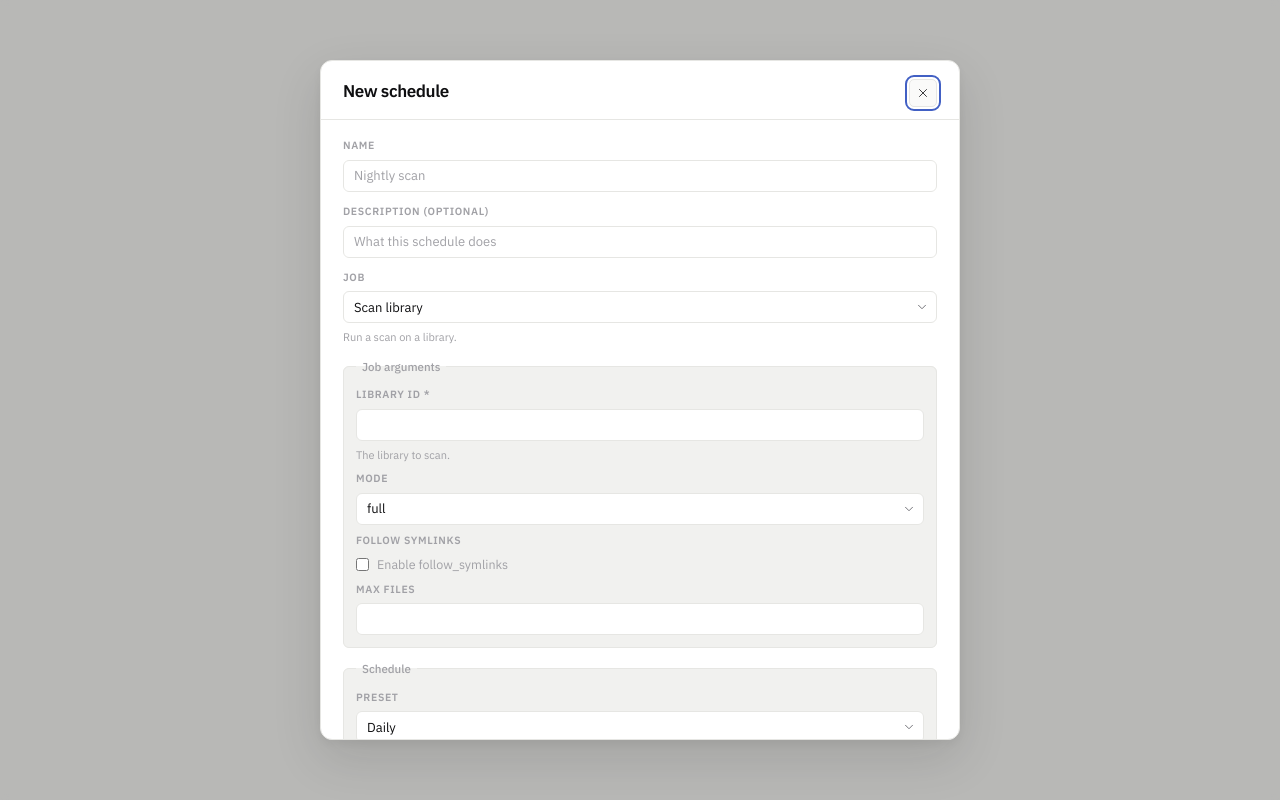
Test: Stage 9 — AutomationScheduleDialog form › read-only JSON peek shows the current form state
Type "lib-xyz" into the field labelled "Library ID * The library to scan." at coordinates (640, 425), box [356,409,924,441]
(page scrolled)
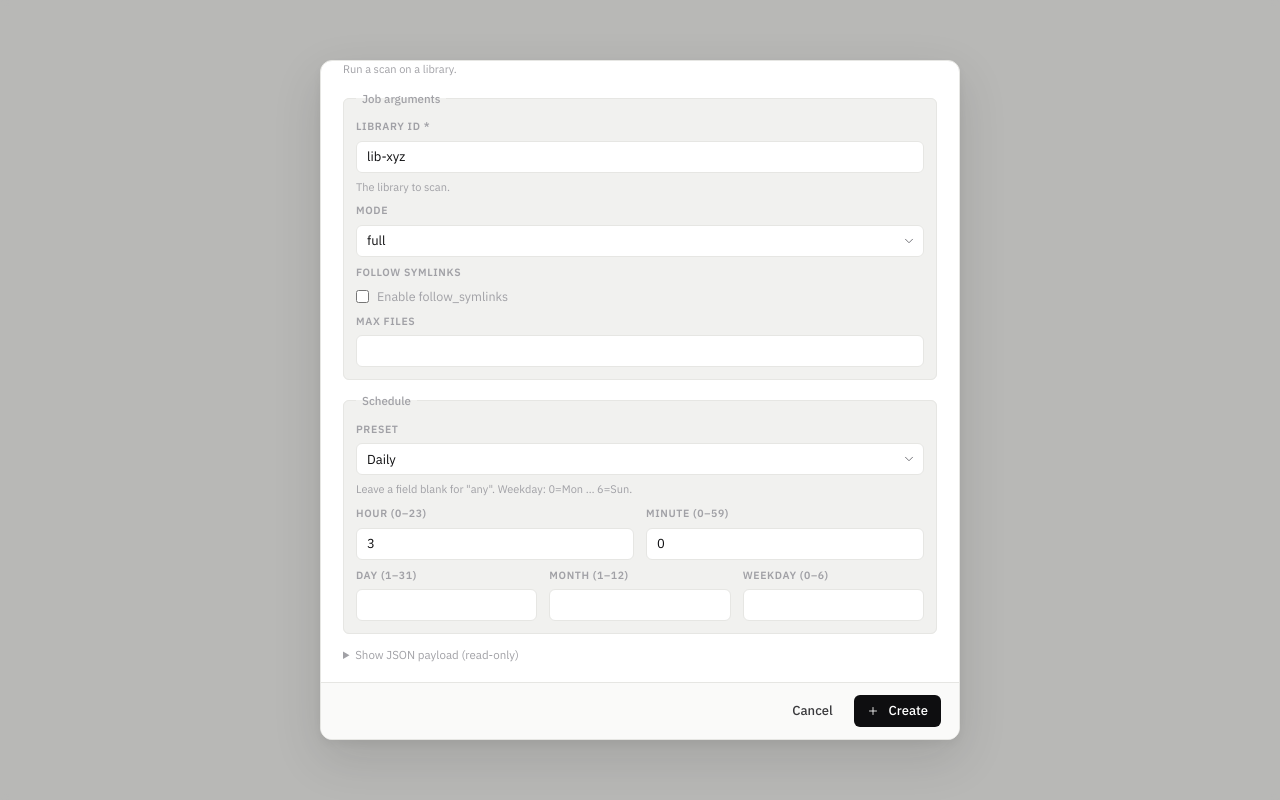
Click the heading "Show JSON payload (read-only)" at coordinates (437, 655), box [355,647,519,662]
(page scrolled)
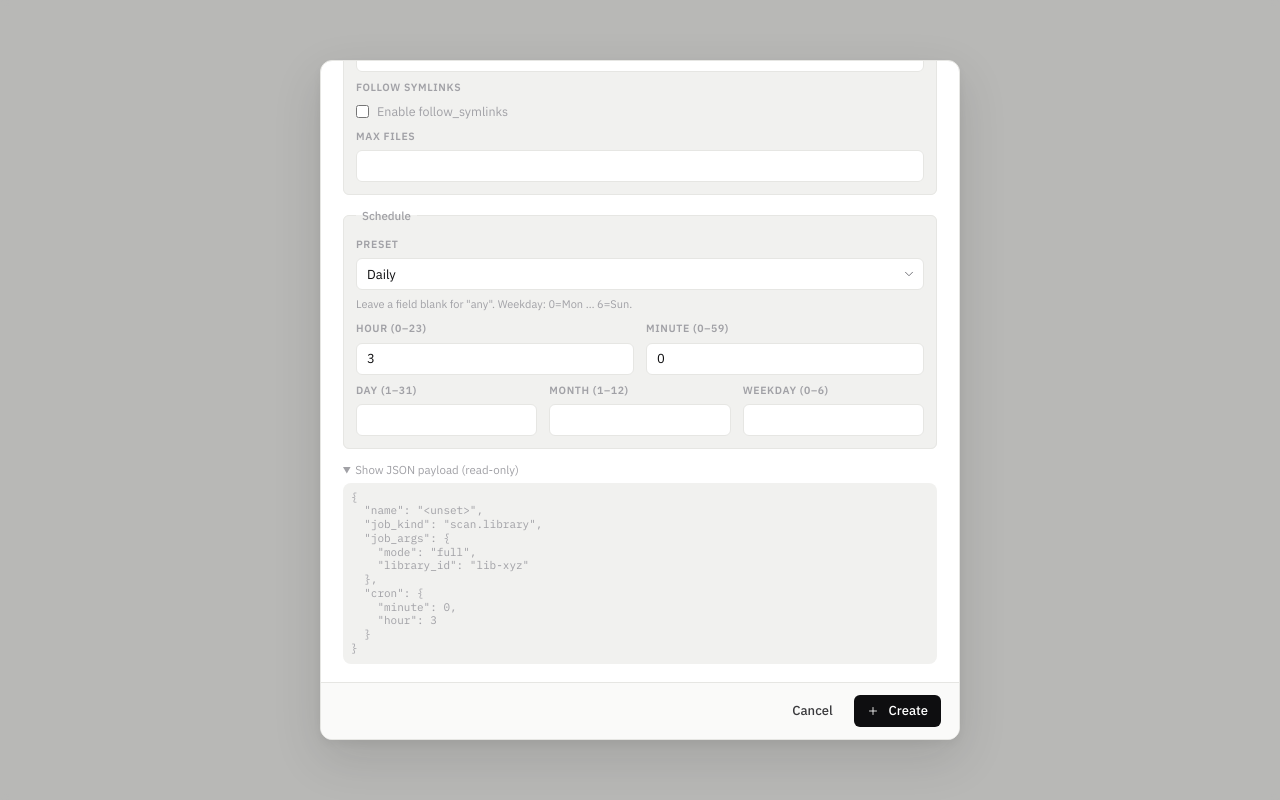
Expected: the text "lib-xyz" is shown, [351,490,542,655]
